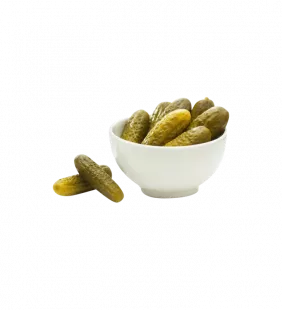AMOUS: (43, 91, 237, 213)
